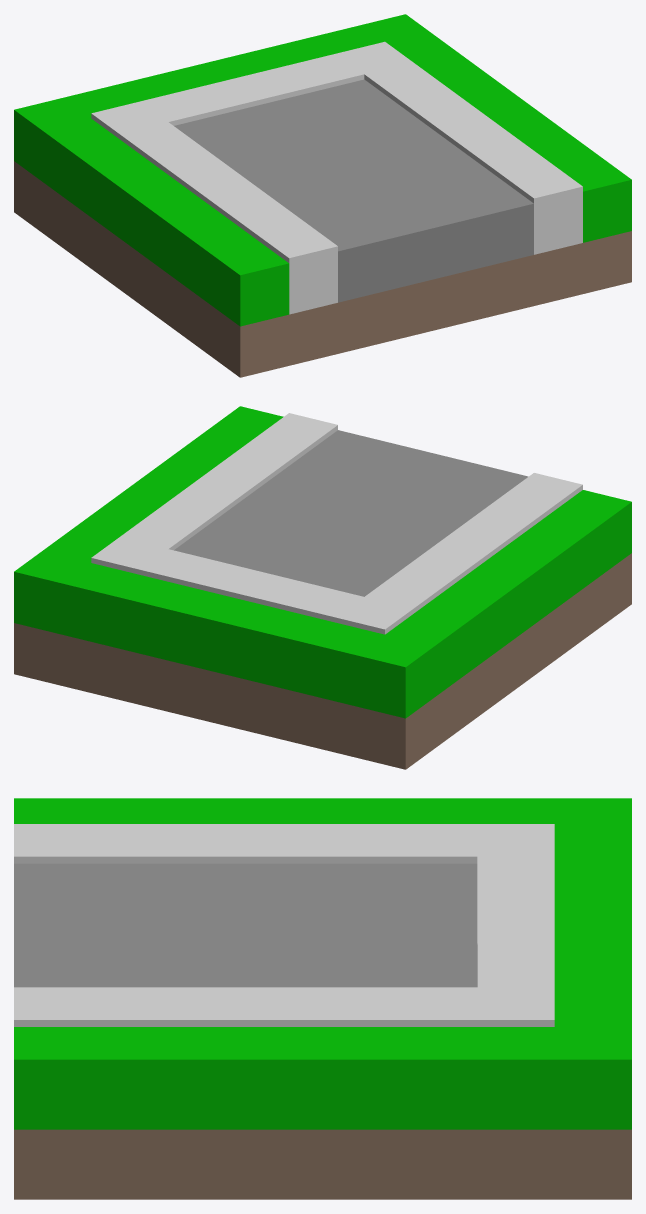
The model's file is InicioRua.fbx.
3 renders of one model, top to bottom at view 1: azimuth 30°, elevation 25°; view 2: azimuth 150°, elevation 25°; view 3: azimuth 270°, elevation 25°, orthographic. The views are drawn at different scales.
Visible parts, largest first — view 1: InicioRua; view 2: InicioRua; view 3: InicioRua.
Boxes of the visible parts, x1,y1,x2,y2 form: InicioRua: (14, 14, 631, 377); InicioRua: (14, 406, 631, 769); InicioRua: (14, 798, 631, 1199).
Bounding box in the file's own units: 8 × 2.1 × 8.
